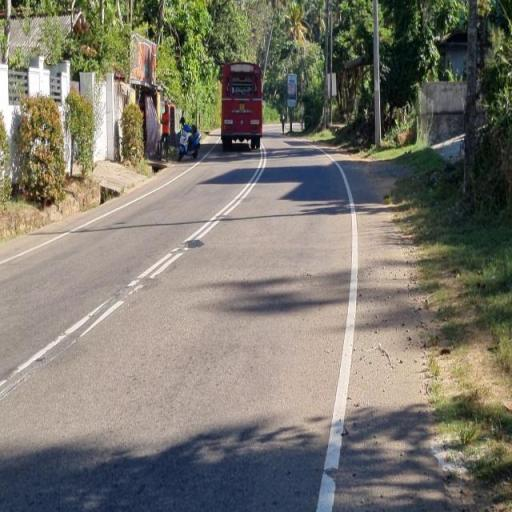double_white_line: (127, 140, 268, 294)
